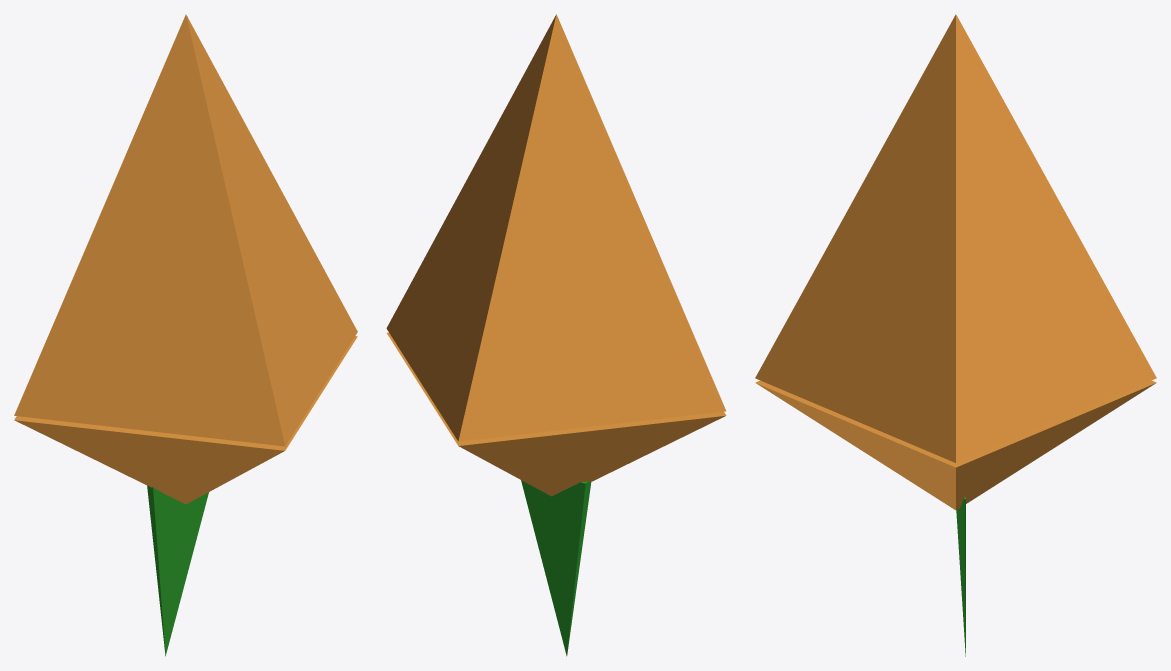
File: carrot.fbx
3 renders of one model, left to right at view 1: azimuth 30°, elevation 25°; view 2: azimuth 150°, elevation 25°; view 3: azimuth 270°, elevation 25°, orthographic. The views are drawn at different scales.
Parts seen in each view (by area): view 1: Cone.001, Cone, Cube; view 2: Cone.001, Cone, Cube; view 3: Cone.001, Cone, Cube.
Boxes of the visible parts, x1,y1,x2,y2 form: Cone.001: (14, 14, 357, 446); Cone: (14, 336, 357, 504); Cube: (147, 485, 208, 656); Cone.001: (386, 14, 725, 441); Cone: (387, 332, 726, 496); Cube: (521, 480, 591, 656); Cone.001: (755, 14, 1156, 462); Cone: (755, 380, 1156, 510); Cube: (956, 497, 965, 656).
Size of the model in its own units: 100 by 179 by 100.
